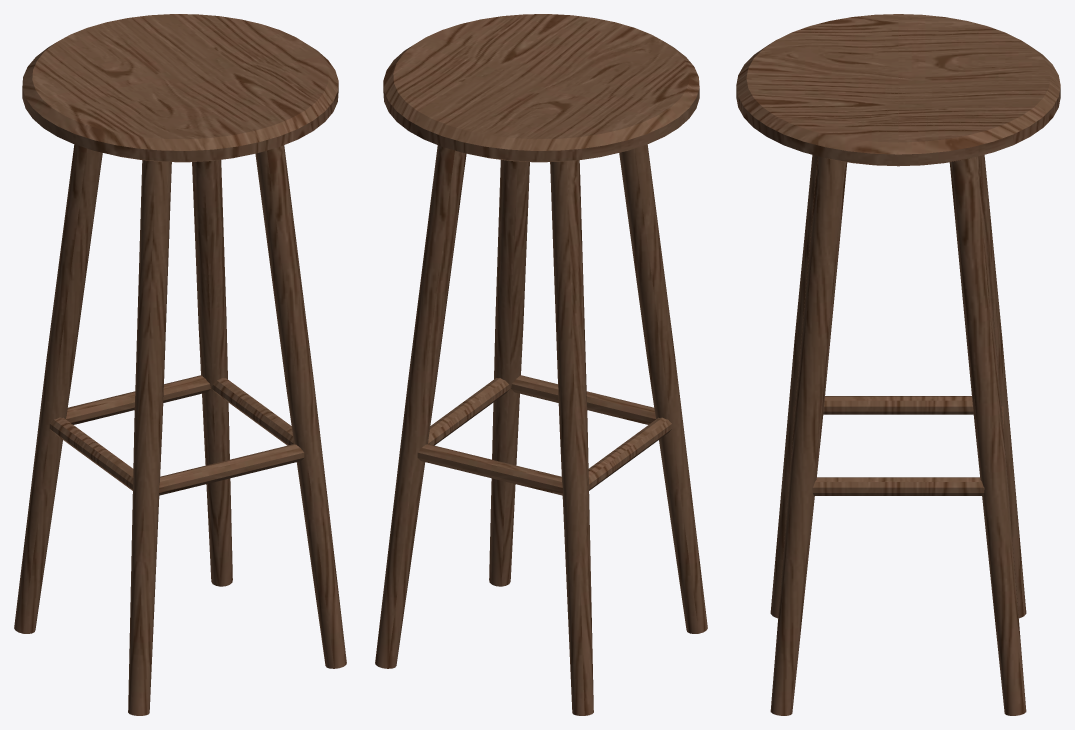
File: taburete_madera_75_nogal.glb
3 views of the same model, side by side, from view 1: azimuth 30°, elevation 25°; view 2: azimuth 150°, elevation 25°; view 3: azimuth 270°, elevation 25° (orthographic). The views are drawn at different scales.
Visible parts, largest first — view 1: taburete_madera_75_nogal; view 2: taburete_madera_75_nogal; view 3: taburete_madera_75_nogal.
Boxes of the visible parts, box(x1,y1,x2,y2) form: taburete_madera_75_nogal: box(14, 14, 346, 715); taburete_madera_75_nogal: box(375, 14, 707, 715); taburete_madera_75_nogal: box(736, 14, 1060, 715).
Size of the model in its own units: 0.38 by 0.7566 by 0.38.
Materials: 1 (1 with a texture image).
